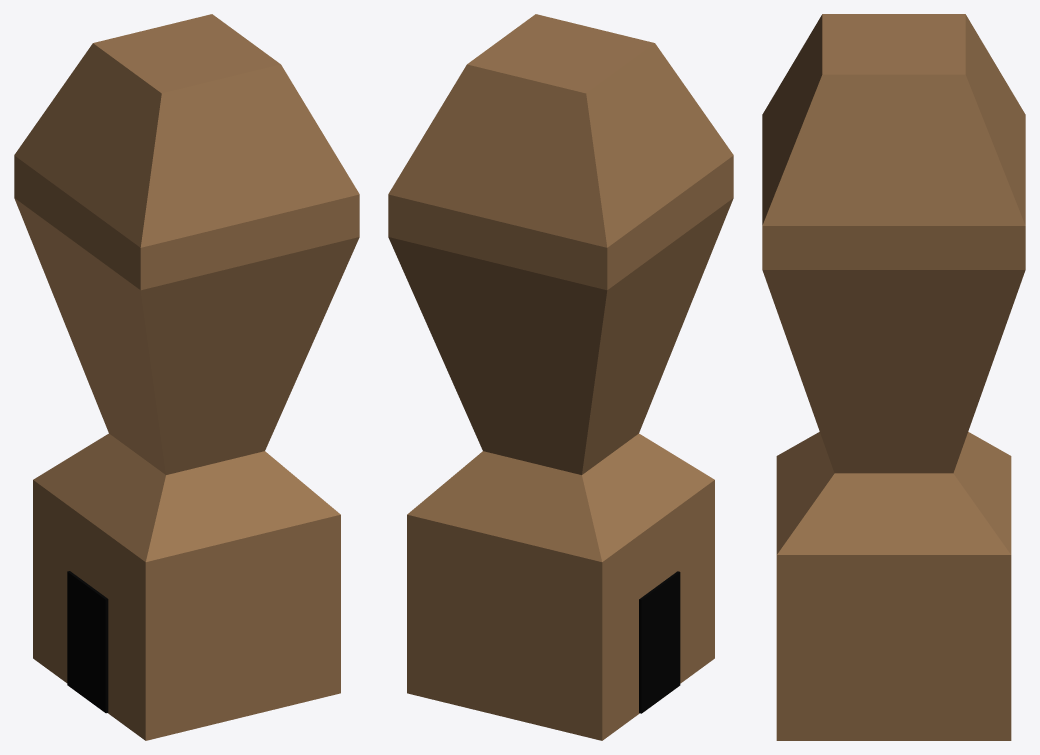
Rendered from Tower.Bomber_BAK.glb.
3 renders of one model, left to right at view 1: azimuth 30°, elevation 25°; view 2: azimuth 150°, elevation 25°; view 3: azimuth 270°, elevation 25°, orthographic. The views are drawn at different scales.
Visible parts, largest first — view 1: Cube, Cube.001; view 2: Cube, Cube.001; view 3: Cube.
Part boxes in pixels (box(x1,y1,x2,y2)): Cube: box(14, 14, 359, 740); Cube.001: box(67, 571, 108, 713); Cube: box(388, 14, 733, 740); Cube.001: box(639, 571, 680, 713); Cube: box(762, 14, 1025, 740).
Size of the model in its own units: 1.27 by 3.45 by 1.27.
